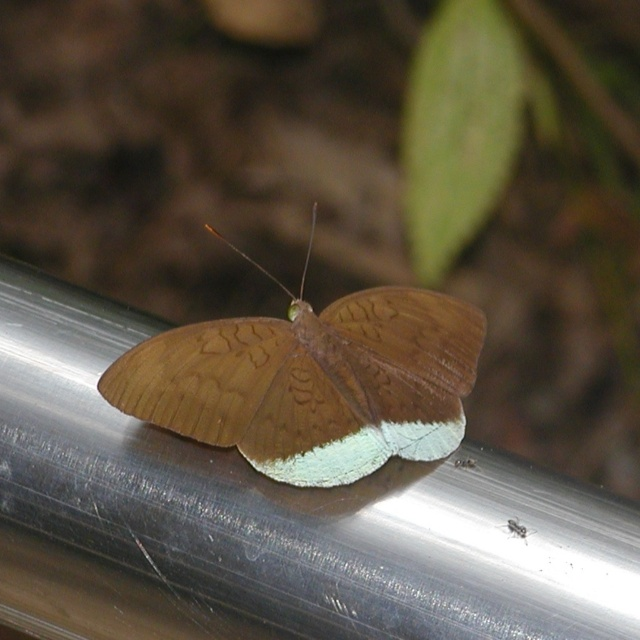Butterfly: (93, 196, 485, 492)
